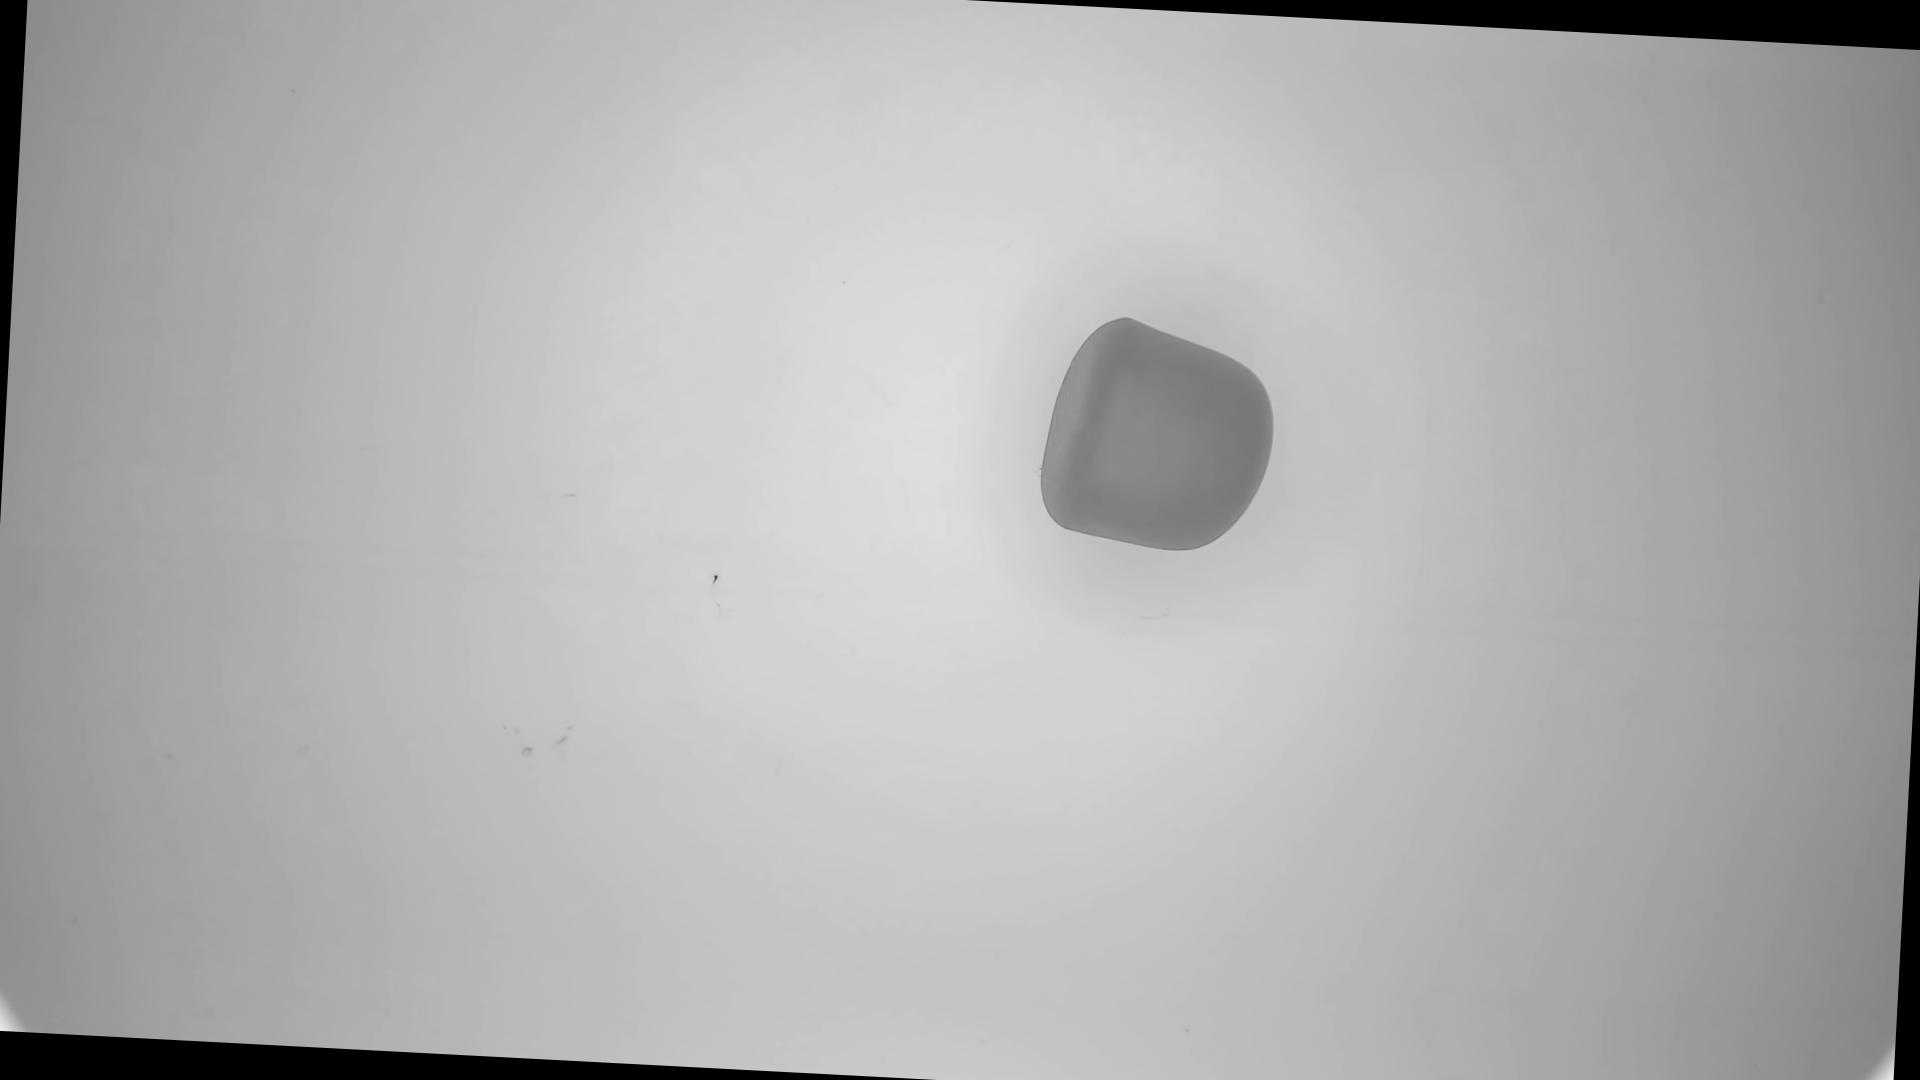normal: (1034, 309, 1284, 563)
